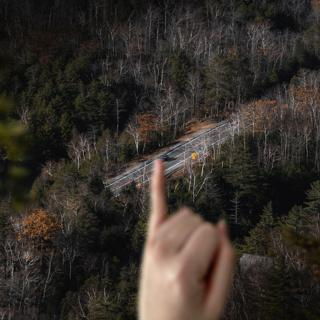Fine: (125, 155, 239, 320)
